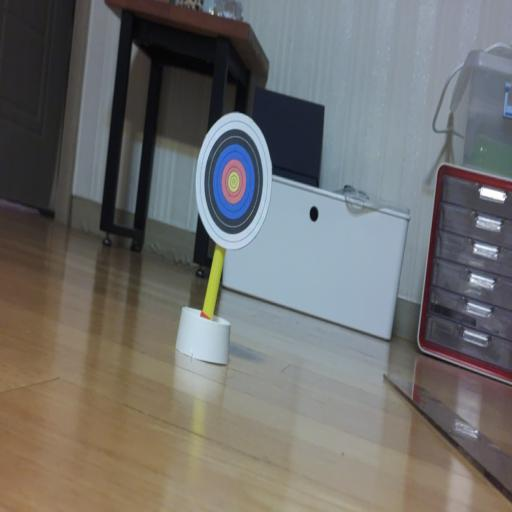target: (196, 112, 272, 248)
